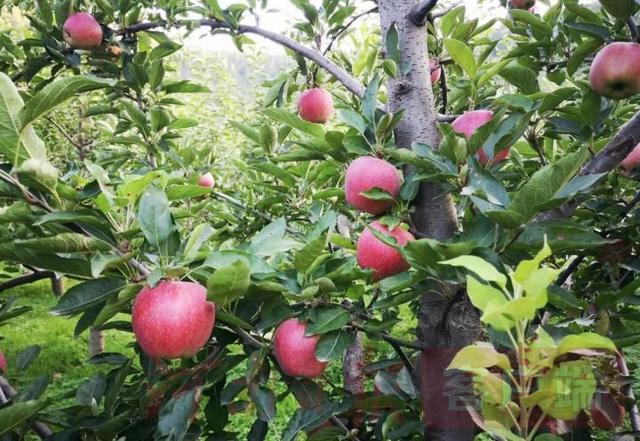apple: (132, 282, 215, 360), (357, 212, 416, 281), (344, 155, 400, 215), (272, 317, 327, 378), (588, 41, 640, 100), (62, 12, 101, 49), (296, 88, 334, 122)
